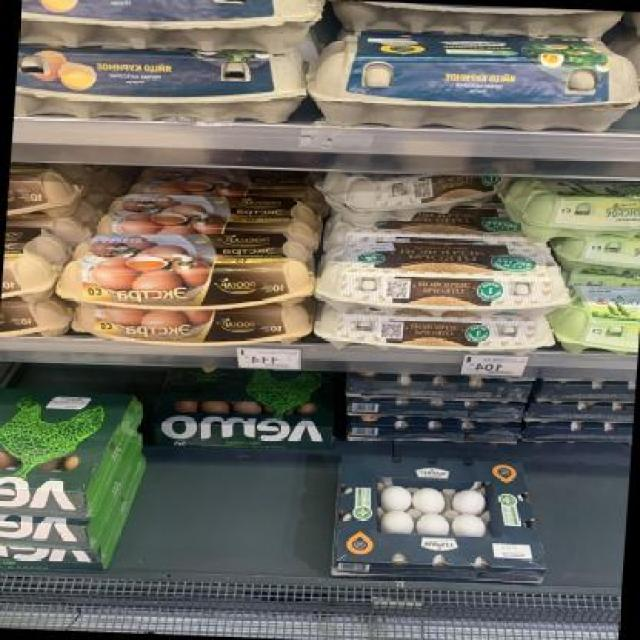Egg: (306, 27, 640, 135), (14, 39, 308, 128), (58, 226, 314, 319), (314, 233, 572, 318), (18, 0, 323, 58), (93, 190, 325, 246), (314, 306, 558, 356), (70, 299, 308, 349)
